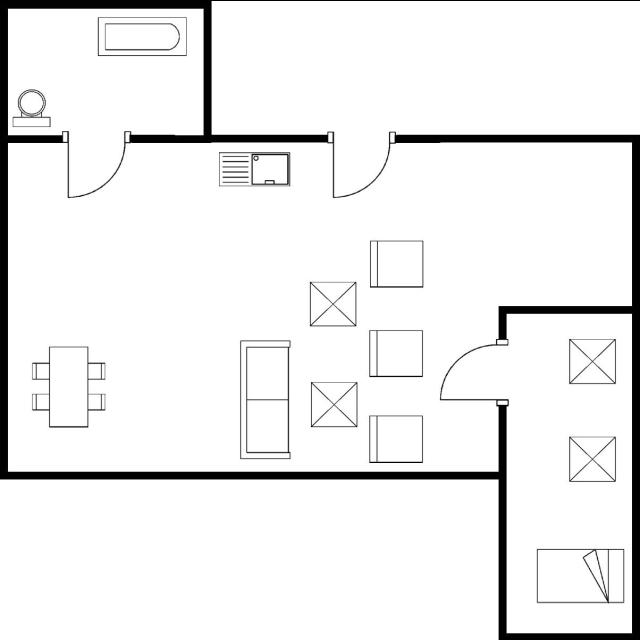bed: (532, 544, 628, 606)
coffee_table: (564, 332, 620, 390), (566, 432, 621, 487), (305, 276, 360, 330), (306, 378, 362, 430)
dining_table: (27, 343, 109, 431)
large_sofa: (235, 334, 295, 464)
sink: (215, 149, 296, 192), (8, 84, 56, 130)
small_sofa: (365, 410, 429, 465), (366, 326, 428, 382), (364, 234, 426, 290)
tub: (92, 12, 192, 60)
